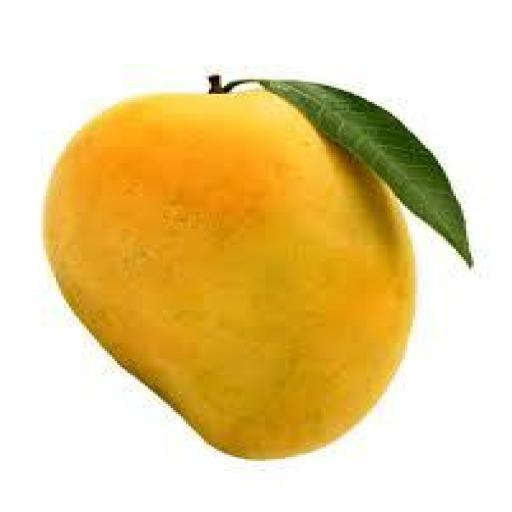mango: (46, 92, 415, 458)
